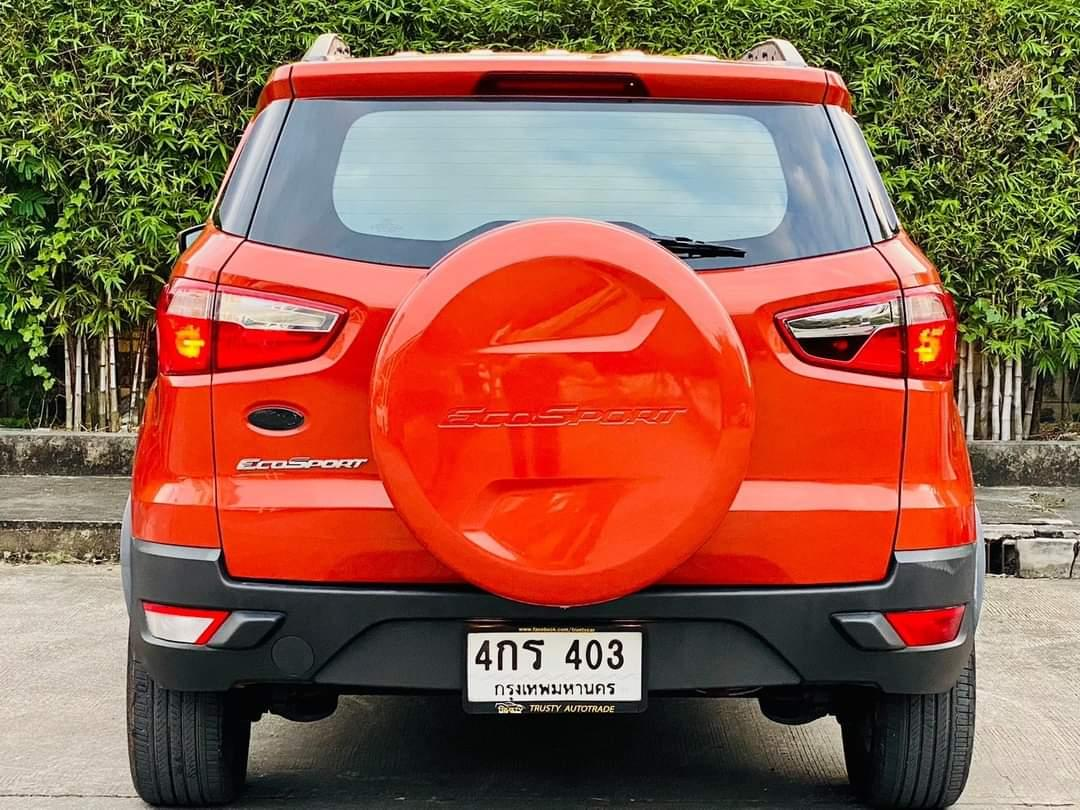license-plate: (457, 622, 650, 718)
